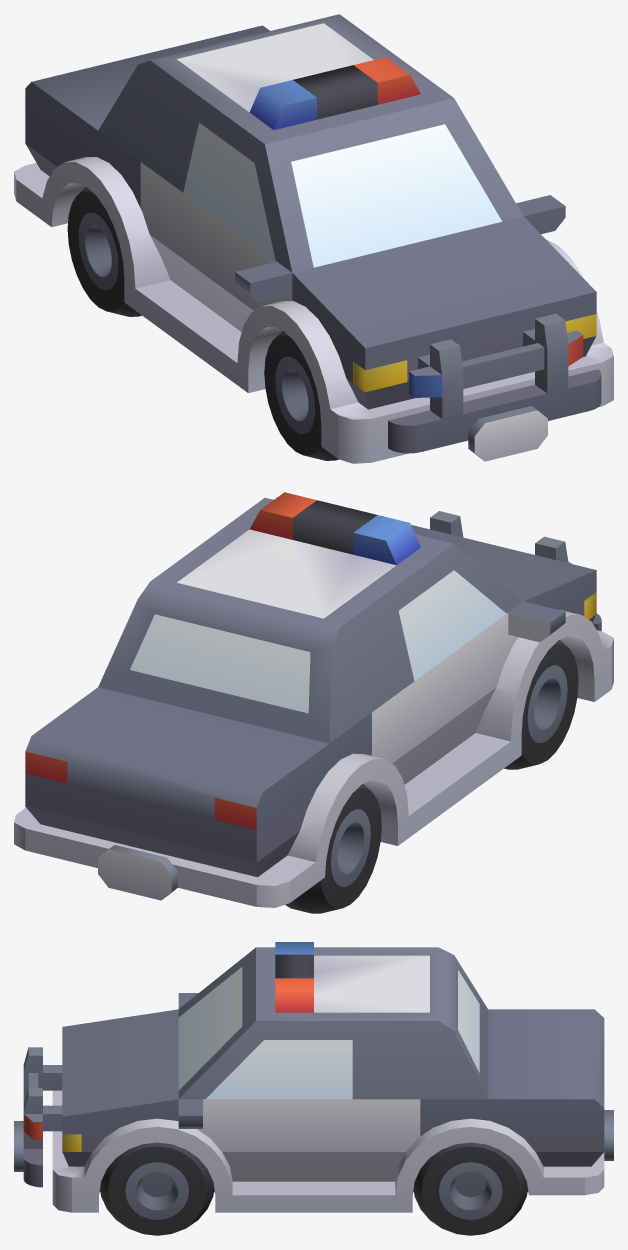
Rendered from kenney-car-police.glb.
3 views of the same model, one above another, from view 1: azimuth 30°, elevation 25°; view 2: azimuth 150°, elevation 25°; view 3: azimuth 270°, elevation 25° (orthographic). The views are drawn at different scales.
Parts seen in each view (by area): view 1: wheel-back-left; view 2: wheel-back-left; view 3: wheel-back-left.
Part boxes in pixels (x1=…): wheel-back-left: x1=14, y1=14, x2=613, y2=463; wheel-back-left: x1=14, y1=492, x2=613, y2=913; wheel-back-left: x1=14, y1=942, x2=613, y2=1235.
Bounding box in the file's own units: 1.5 × 1.3 × 3.1.
1 material, 1 textured.
